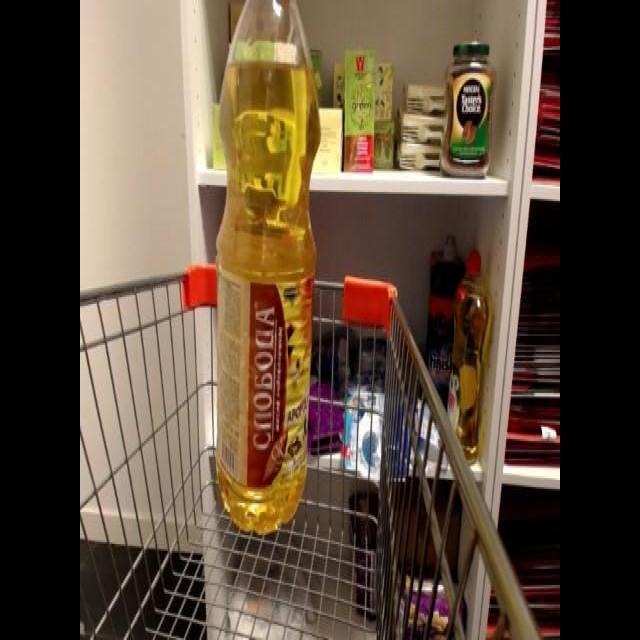Oil: (206, 1, 322, 545)
